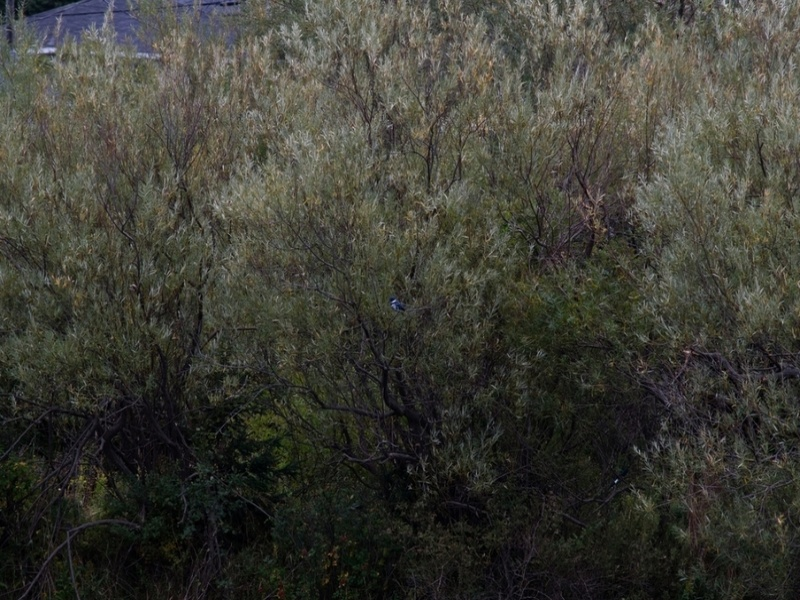kingfisher: (388, 296, 403, 313)
